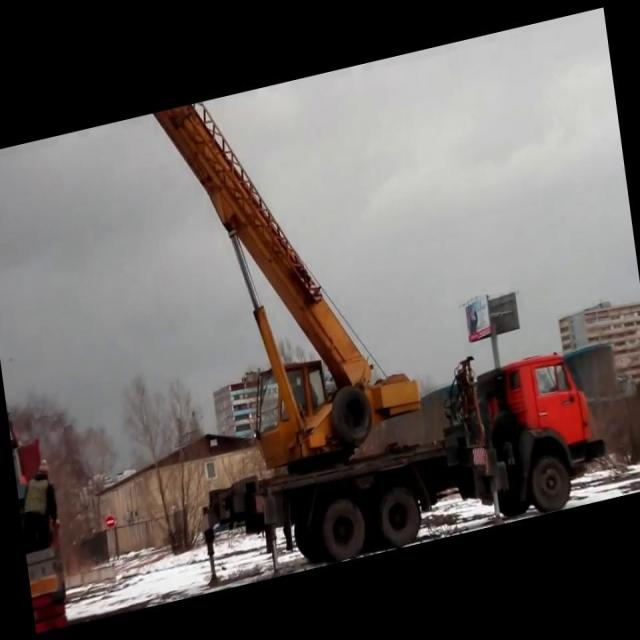crane: (147, 18, 613, 592)
